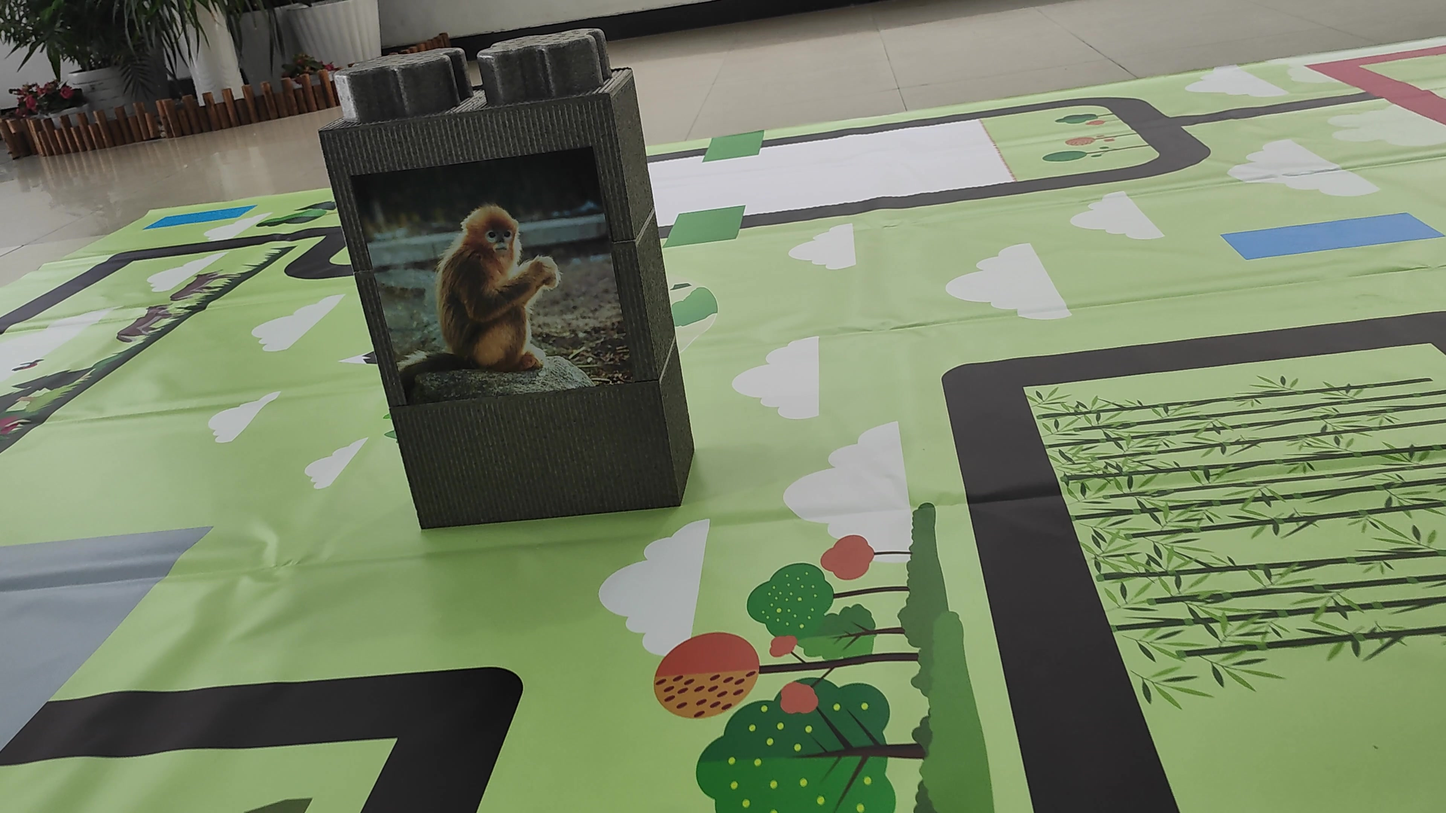monkey: (401, 161, 610, 409)
